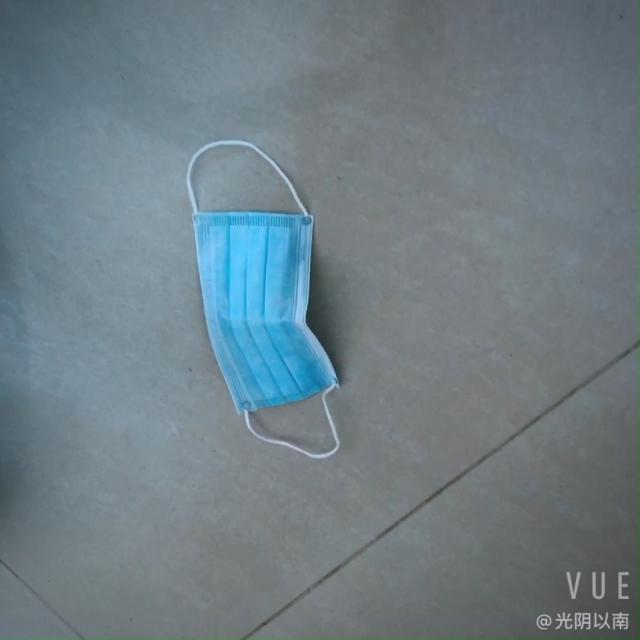face mask: (180, 175, 342, 448)
